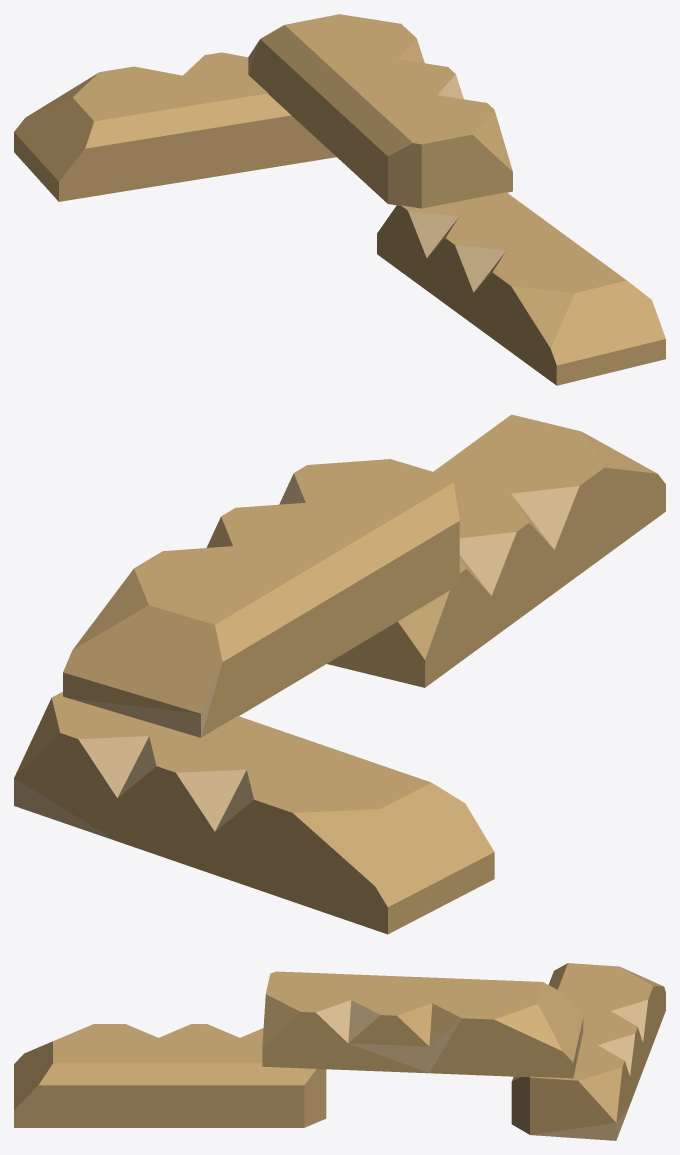
File: desert_rock_12.fbx
3 views of the same model, one above another, from view 1: azimuth 30°, elevation 25°; view 2: azimuth 150°, elevation 25°; view 3: azimuth 270°, elevation 25° (orthographic). The views are drawn at different scales.
Visible parts, largest first — view 1: desert_rock_12; view 2: desert_rock_12; view 3: desert_rock_12.
Boxes of the visible parts, left/top/right/bottom form: desert_rock_12: left=14, top=14, right=665, bottom=385; desert_rock_12: left=14, top=414, right=665, bottom=934; desert_rock_12: left=14, top=963, right=665, bottom=1140.
Bounding box in the file's own units: 204 × 78.26 × 408.
